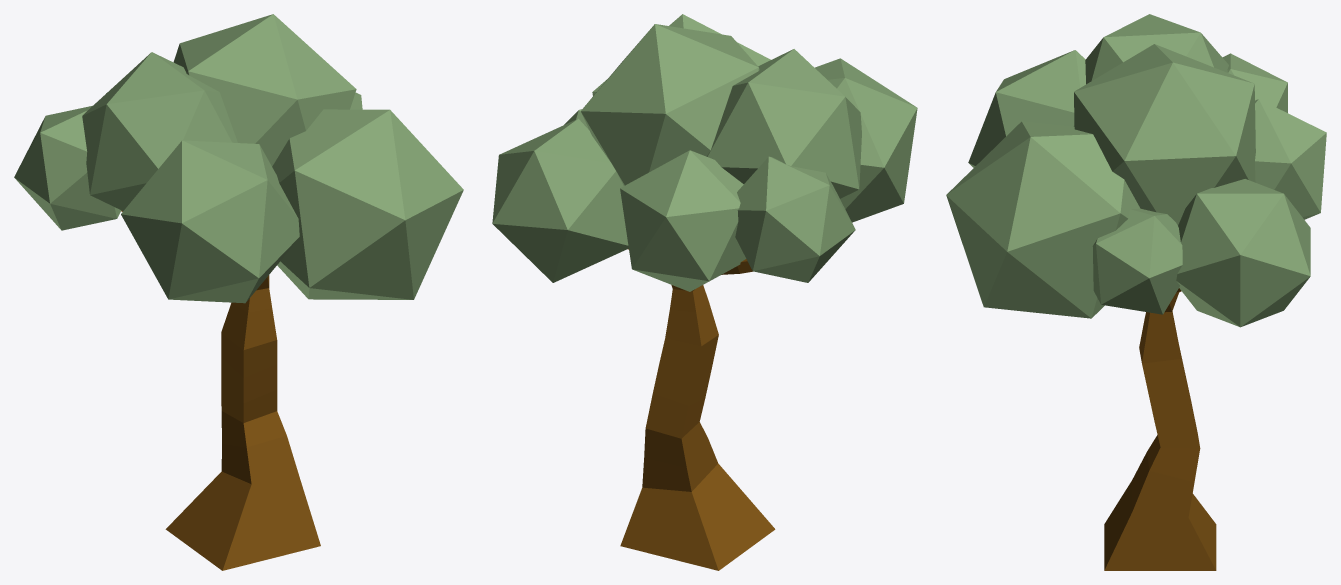
File: lowpolytree0.fbx
The picture shows the model from 3 angles, left to right: view 1: azimuth 30°, elevation 25°; view 2: azimuth 150°, elevation 25°; view 3: azimuth 270°, elevation 25°; orthographic projection.
Parts seen in each view (by area): view 1: Icosphere.003, Icosphere.002, Cube.001, Icosphere.005, Icosphere.006, Icosphere; view 2: Cube.001, Icosphere.005, Icosphere.004, Icosphere.006, Icosphere.001, Icosphere, Icosphere.002, Icosphere.003; view 3: Icosphere.003, Icosphere.005, Cube.001, Icosphere.004, Icosphere.007, Icosphere.002, Icosphere.001, Icosphere.006, Icosphere.
Boxes of the visible parts, x1=… form: Icosphere.003: x1=272, y1=109, x2=463, y2=299; Icosphere.002: x1=121, y1=140, x2=299, y2=303; Cube.001: x1=121, y1=210, x2=320, y2=570; Icosphere.005: x1=173, y1=14, x2=356, y2=166; Icosphere.006: x1=82, y1=52, x2=237, y2=210; Icosphere: x1=14, y1=105, x2=121, y2=230; Cube.001: x1=620, y1=248, x2=775, y2=570; Icosphere.005: x1=580, y1=24, x2=759, y2=185; Icosphere.004: x1=492, y1=118, x2=628, y2=282; Icosphere.006: x1=706, y1=49, x2=861, y2=198; Icosphere.001: x1=620, y1=150, x2=746, y2=291; Icosphere: x1=735, y1=156, x2=855, y2=282; Icosphere.002: x1=815, y1=58, x2=917, y2=222; Icosphere.003: x1=592, y1=14, x2=770, y2=95; Icosphere.003: x1=946, y1=121, x2=1140, y2=318; Icosphere.005: x1=1074, y1=44, x2=1255, y2=225; Cube.001: x1=1104, y1=288, x2=1216, y2=570; Icosphere.004: x1=1176, y1=179, x2=1310, y2=327; Icosphere.007: x1=1092, y1=208, x2=1182, y2=314; Icosphere.002: x1=968, y1=50, x2=1085, y2=167; Icosphere.001: x1=1255, y1=99, x2=1326, y2=219; Icosphere.006: x1=1085, y1=14, x2=1228, y2=84; Icosphere: x1=1222, y1=53, x2=1287, y2=112.
Size of the model in its own units: 105 by 153 by 105.
